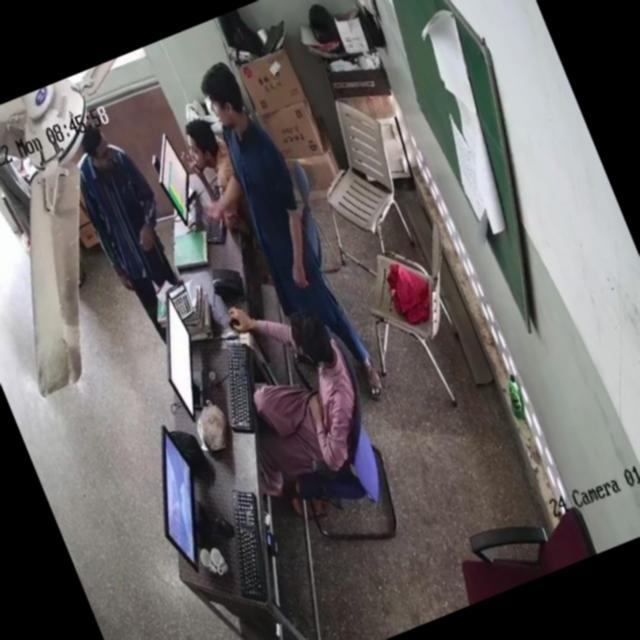person: (199, 58, 376, 396), (242, 306, 386, 476), (59, 118, 179, 308), (180, 114, 264, 239)
